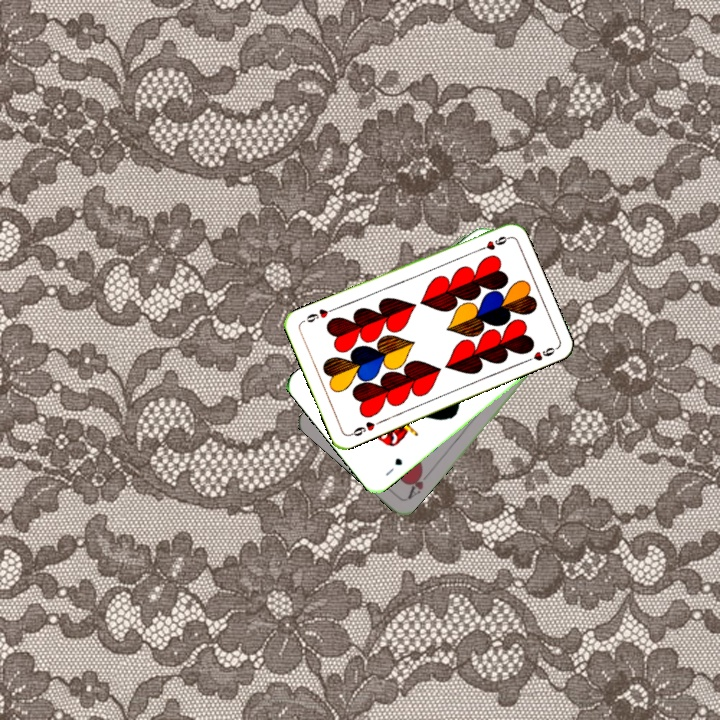GU: (382, 454, 405, 479)
H9: (345, 416, 384, 439), (473, 232, 512, 254)
HA: (403, 465, 433, 502)
